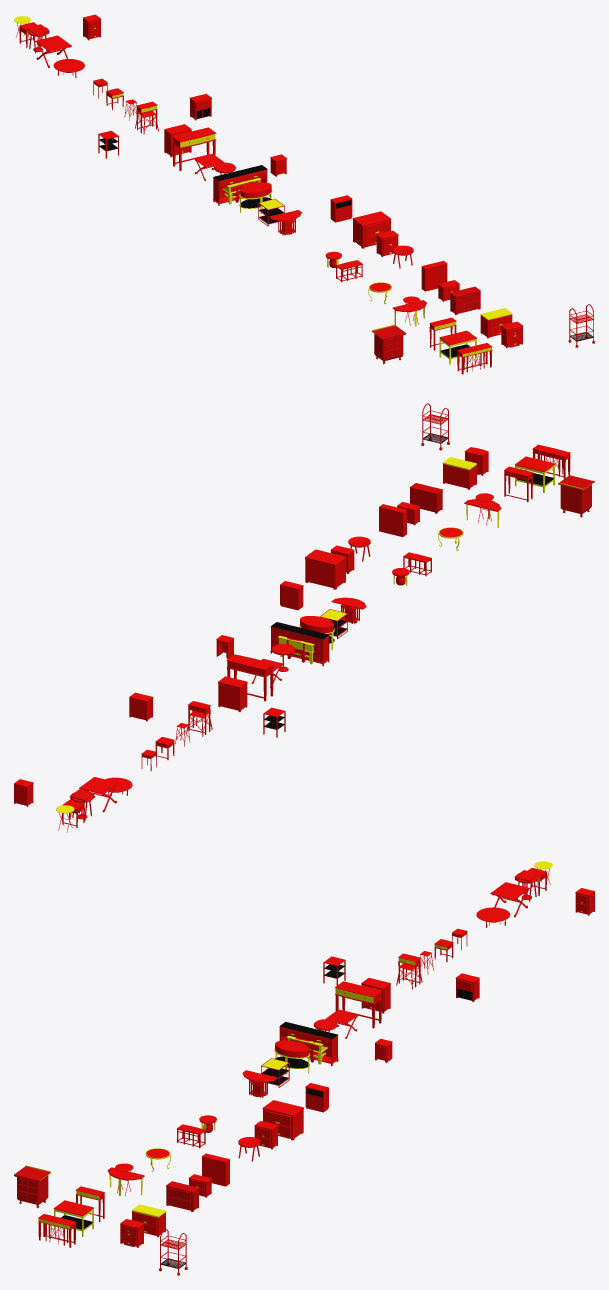
The model's file is side_tables_grp.fbx.
3 renders of one model, top to bottom at view 1: azimuth 30°, elevation 25°; view 2: azimuth 150°, elevation 25°; view 3: azimuth 330°, elevation 25°, orthographic. The views are drawn at different scales.
Visible parts, largest first — view 1: side_table_003, side_table_219, side_table_307, side_table_311_2, side_table_215, side_table_202, side_table_228_1, side_table_401, side_table_313; view 2: side_table_311_2, side_table_003, side_table_219, side_table_216_1, side_table_220, side_table_303_1, side_table_307, side_table_305, side_table_202, side_table_313, side_table_322, side_table_401; view 3: side_table_003, side_table_219, side_table_307, side_table_311_2, side_table_215, side_table_228_1, side_table_202, side_table_401, side_table_313.
Boxes of the visible parts, x1,y1,x2,y2 form: side_table_003: [371, 324, 405, 363]; side_table_219: [172, 127, 216, 170]; side_table_307: [421, 260, 447, 291]; side_table_311_2: [352, 211, 390, 248]; side_table_215: [239, 182, 272, 213]; side_table_202: [439, 330, 476, 364]; side_table_228_1: [35, 35, 71, 67]; side_table_401: [568, 304, 594, 347]; side_table_313: [330, 195, 352, 222]; side_table_311_2: [305, 549, 346, 589]; side_table_003: [558, 475, 594, 517]; side_table_219: [226, 654, 273, 701]; side_table_216_1: [270, 626, 329, 666]; side_table_220: [218, 676, 247, 711]; side_table_303_1: [442, 457, 476, 489]; side_table_307: [379, 504, 406, 536]; side_table_305: [410, 483, 442, 513]; side_table_202: [515, 456, 555, 492]; side_table_313: [280, 581, 303, 610]; side_table_322: [129, 692, 153, 721]; side_table_401: [421, 403, 449, 450]; side_table_003: [14, 1165, 50, 1207]; side_table_219: [335, 981, 382, 1028]; side_table_307: [202, 1153, 229, 1186]; side_table_311_2: [262, 1100, 303, 1140]; side_table_215: [274, 1040, 309, 1074]; side_table_228_1: [490, 882, 529, 917]; side_table_202: [53, 1200, 93, 1236]; side_table_401: [159, 1228, 187, 1275]; side_table_313: [305, 1083, 328, 1112].
Bounding box in the file's own units: 679 × 129 × 2954.
